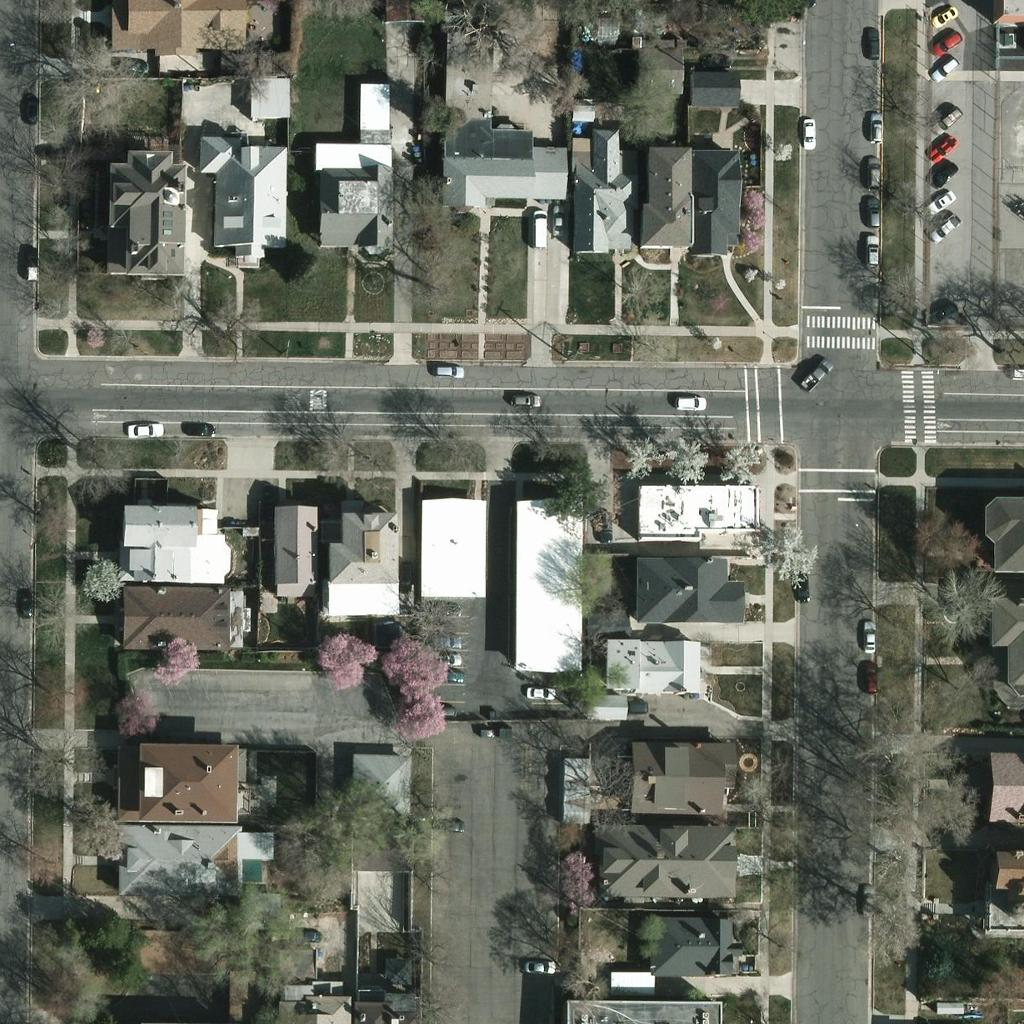car: (932, 25, 966, 59), (855, 27, 889, 61), (698, 42, 732, 76), (117, 47, 151, 81), (928, 50, 962, 84), (14, 91, 48, 125), (931, 101, 965, 135), (791, 113, 825, 147), (861, 113, 895, 147), (924, 129, 958, 163), (923, 158, 957, 192), (857, 159, 891, 193), (924, 184, 958, 218), (855, 194, 889, 228), (70, 195, 104, 229), (540, 202, 574, 236), (523, 206, 557, 240), (928, 209, 962, 243), (857, 232, 891, 266), (14, 245, 48, 279), (926, 295, 960, 329), (428, 353, 462, 387), (799, 356, 833, 390), (508, 382, 542, 416), (669, 384, 703, 418), (180, 411, 214, 445), (127, 414, 161, 448), (387, 556, 421, 590), (784, 567, 818, 601), (8, 586, 42, 620), (425, 591, 459, 625), (852, 621, 886, 655), (424, 623, 458, 657), (423, 642, 457, 676), (430, 659, 464, 693), (853, 661, 887, 695), (519, 674, 553, 708), (615, 689, 649, 723), (428, 692, 462, 726), (432, 806, 466, 840), (851, 883, 885, 917), (290, 917, 324, 951), (520, 950, 554, 984), (926, 0, 960, 31)
